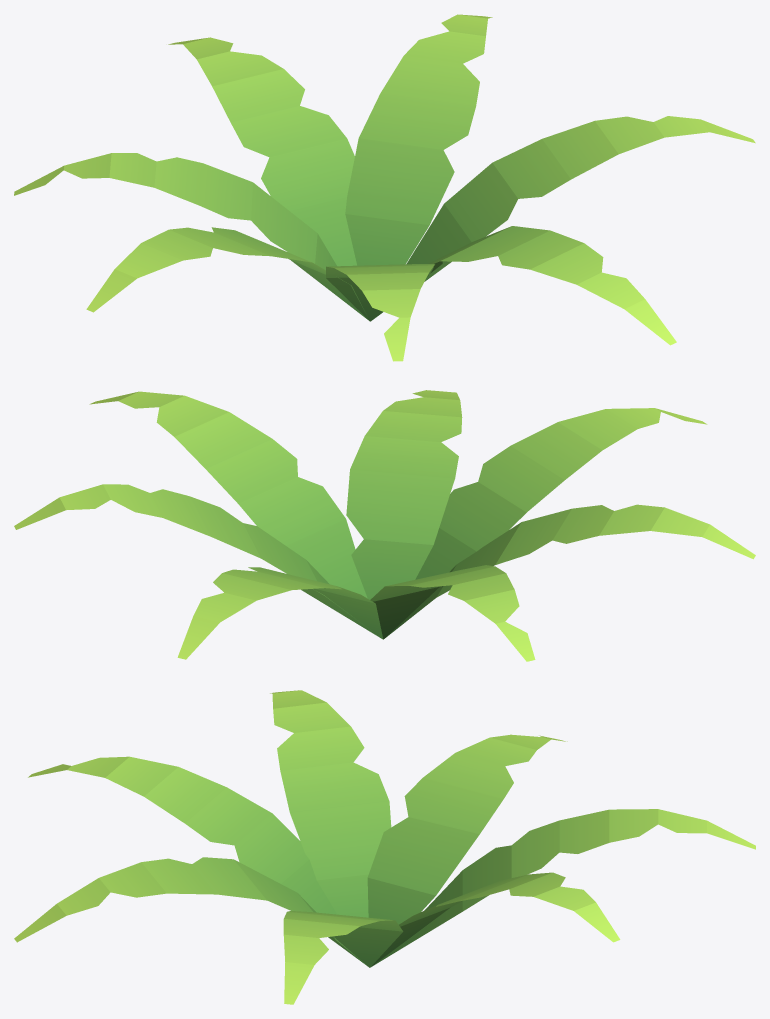
The model's file is GreenFern.fbx.
3 views of the same model, one above another, from view 1: azimuth 30°, elevation 25°; view 2: azimuth 150°, elevation 25°; view 3: azimuth 270°, elevation 25° (orthographic). The views are drawn at different scales.
Visible parts, largest first — view 1: GreenFern; view 2: GreenFern; view 3: GreenFern.
Boxes of the visible parts, x1,y1,x2,y2 form: GreenFern: [14, 14, 755, 361]; GreenFern: [14, 390, 755, 661]; GreenFern: [14, 690, 755, 1004].
Size of the model in its own units: 433 by 106 by 434.
